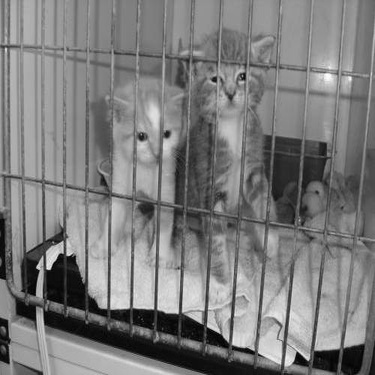cat: (165, 24, 282, 286), (94, 76, 186, 269)
